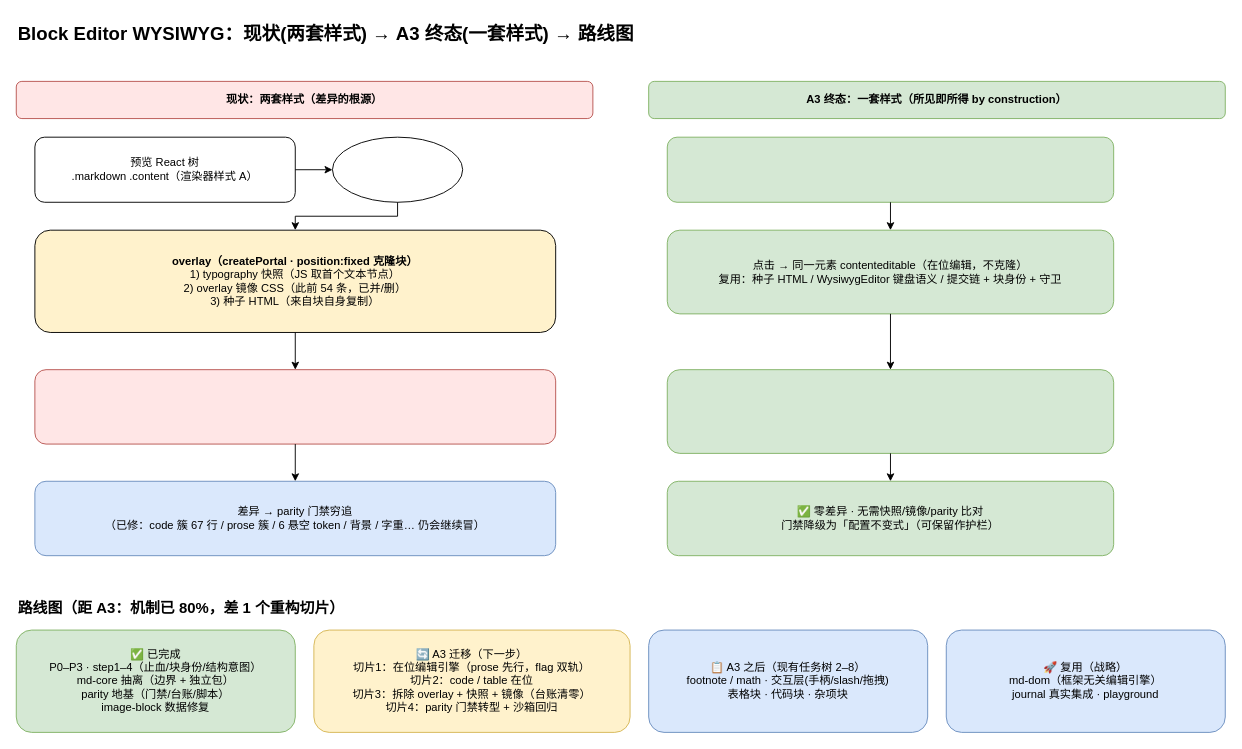
Image size: 1242x749. Some labels were removed from this diagram. Each missing label, with the centre of its shape:
"只有一套样式 → 差异不存在 与 Wolai / 思源 / Milkdown 同构（编辑面 = 渲染面） 我们是文件优先：markdown 文件仍是事实源" belongs at [890,411].
"样式 B = 反推 + 复制 + 快照 → 必然漂移（背景被窗口基色盖住 / 字重被快照污染 / …）" belongs at [295,406].
"点击 / 双击 块" belongs at [397,169].
"预览 React 树 .markdown .content（渲染器样式 A —— 唯一样式）" belongs at [890,169].
